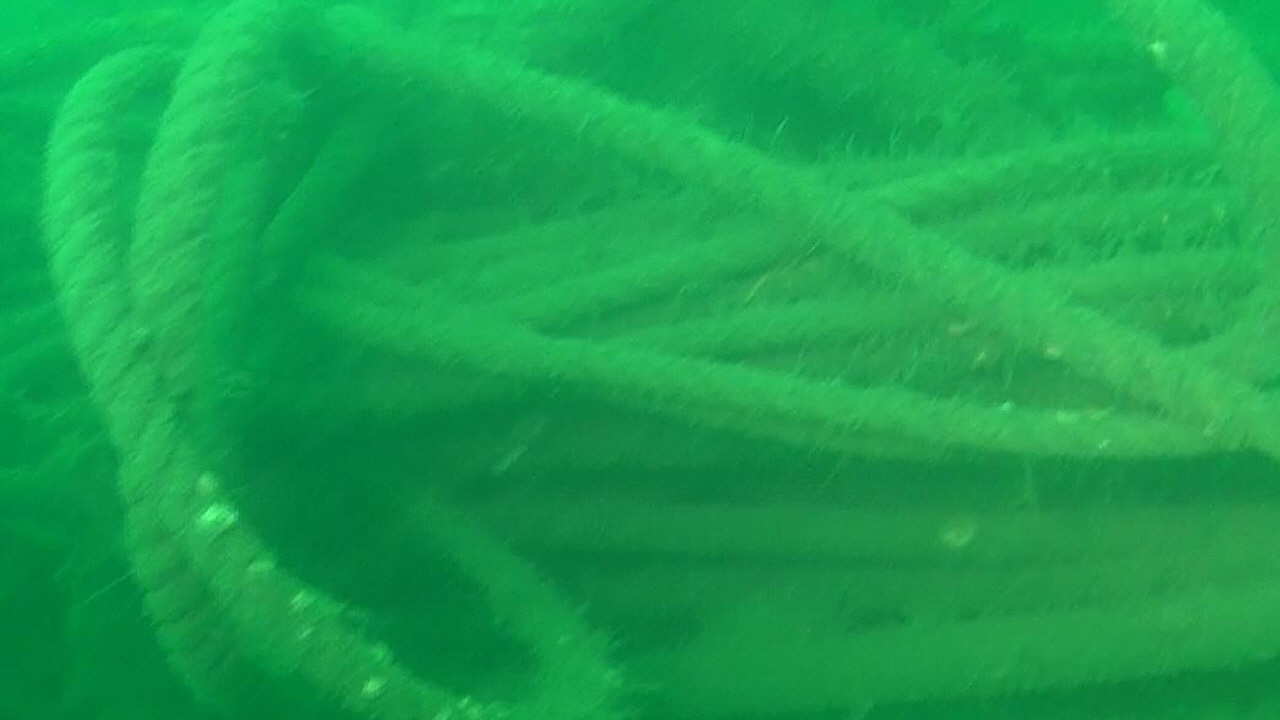bundle of ropes: (39, 0, 1280, 720)
